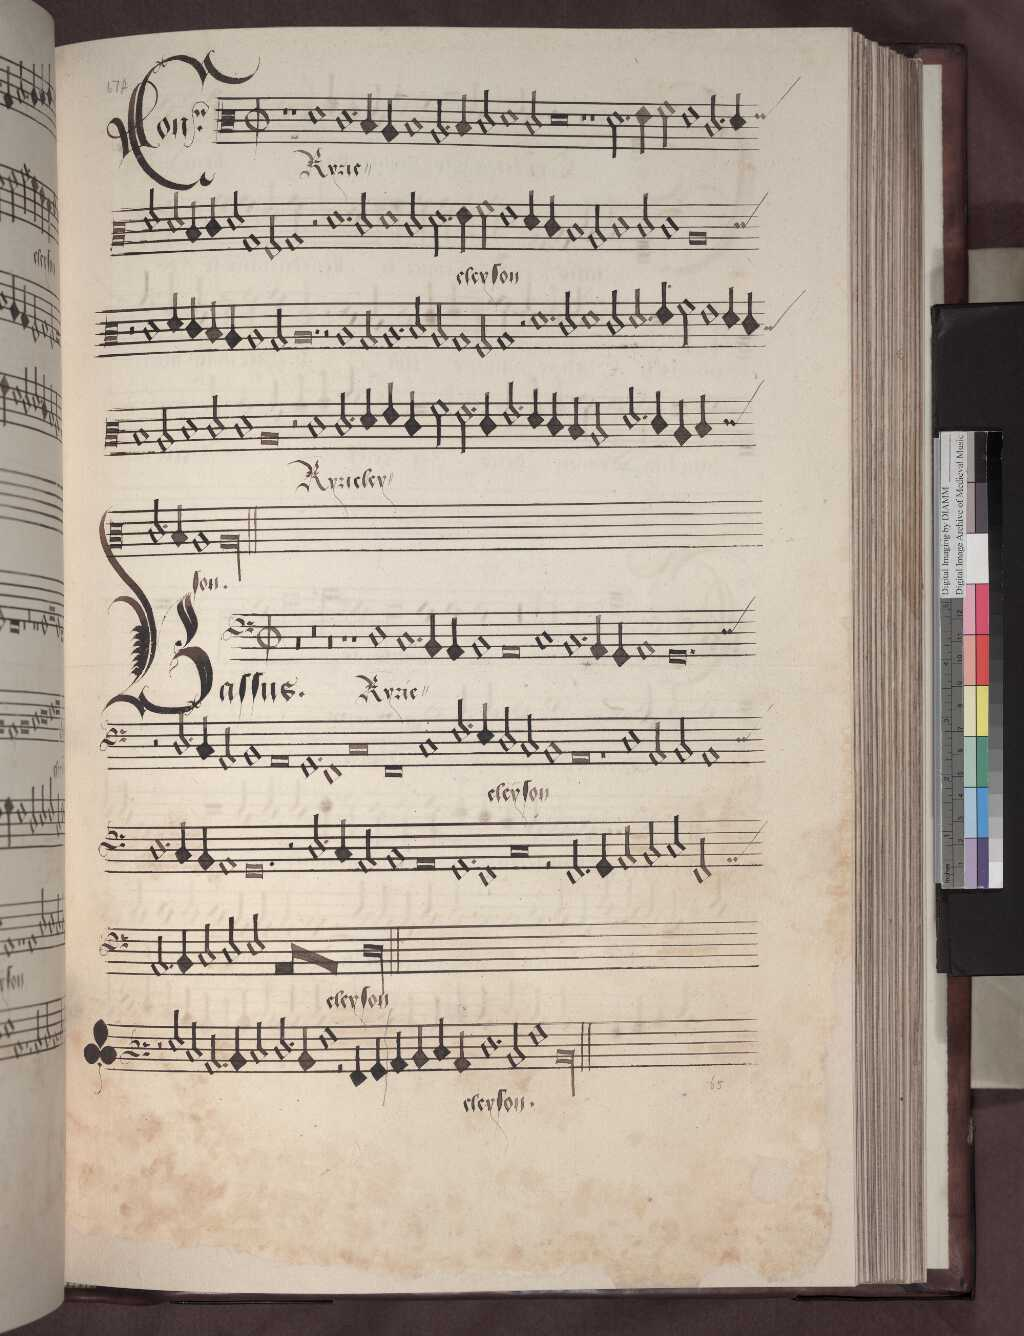breve_10: (565, 739, 596, 774), (265, 743, 296, 777)
breve_12: (376, 753, 410, 787)
breve_8: (342, 731, 374, 765)
custos_7: (733, 721, 755, 755)
f clef_5: (96, 717, 142, 761)
minim rest: (147, 712, 162, 779)
minim_10: (646, 710, 668, 774), (217, 716, 238, 778)
minim_5: (449, 688, 470, 751)
minim_7: (169, 707, 189, 763), (497, 696, 512, 759)
minim_8: (520, 703, 540, 764)
minim_9: (670, 706, 694, 770)
point: (311, 747, 326, 768), (463, 714, 478, 736), (182, 728, 197, 748)
semibreve rest: (595, 712, 610, 776)
semibreve_10: (697, 735, 724, 778)
semibreve_11: (297, 743, 321, 786)
semibreve_12: (319, 754, 346, 794)
semibreve_7: (617, 717, 644, 762)
semibreve_8: (414, 726, 441, 769)
semibreve_9: (540, 731, 567, 773), (241, 734, 265, 774)
semiminim_6: (475, 696, 496, 753)
semiminim_8: (196, 709, 216, 769)
